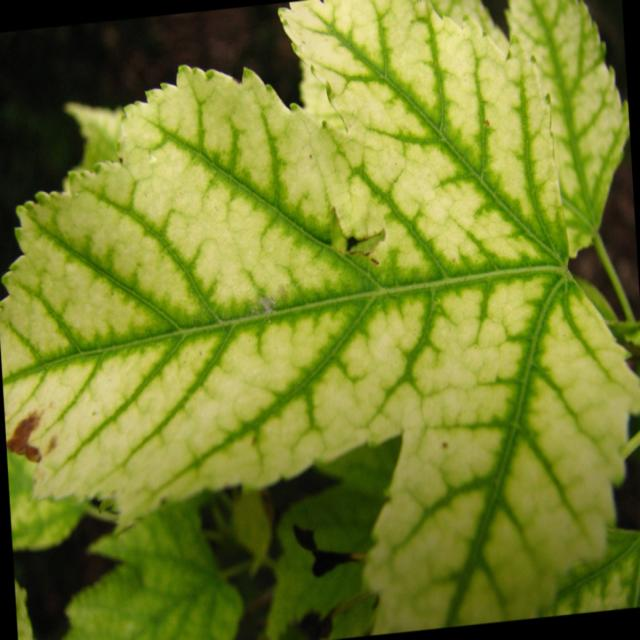Chlorosis: (11, 0, 640, 614)
